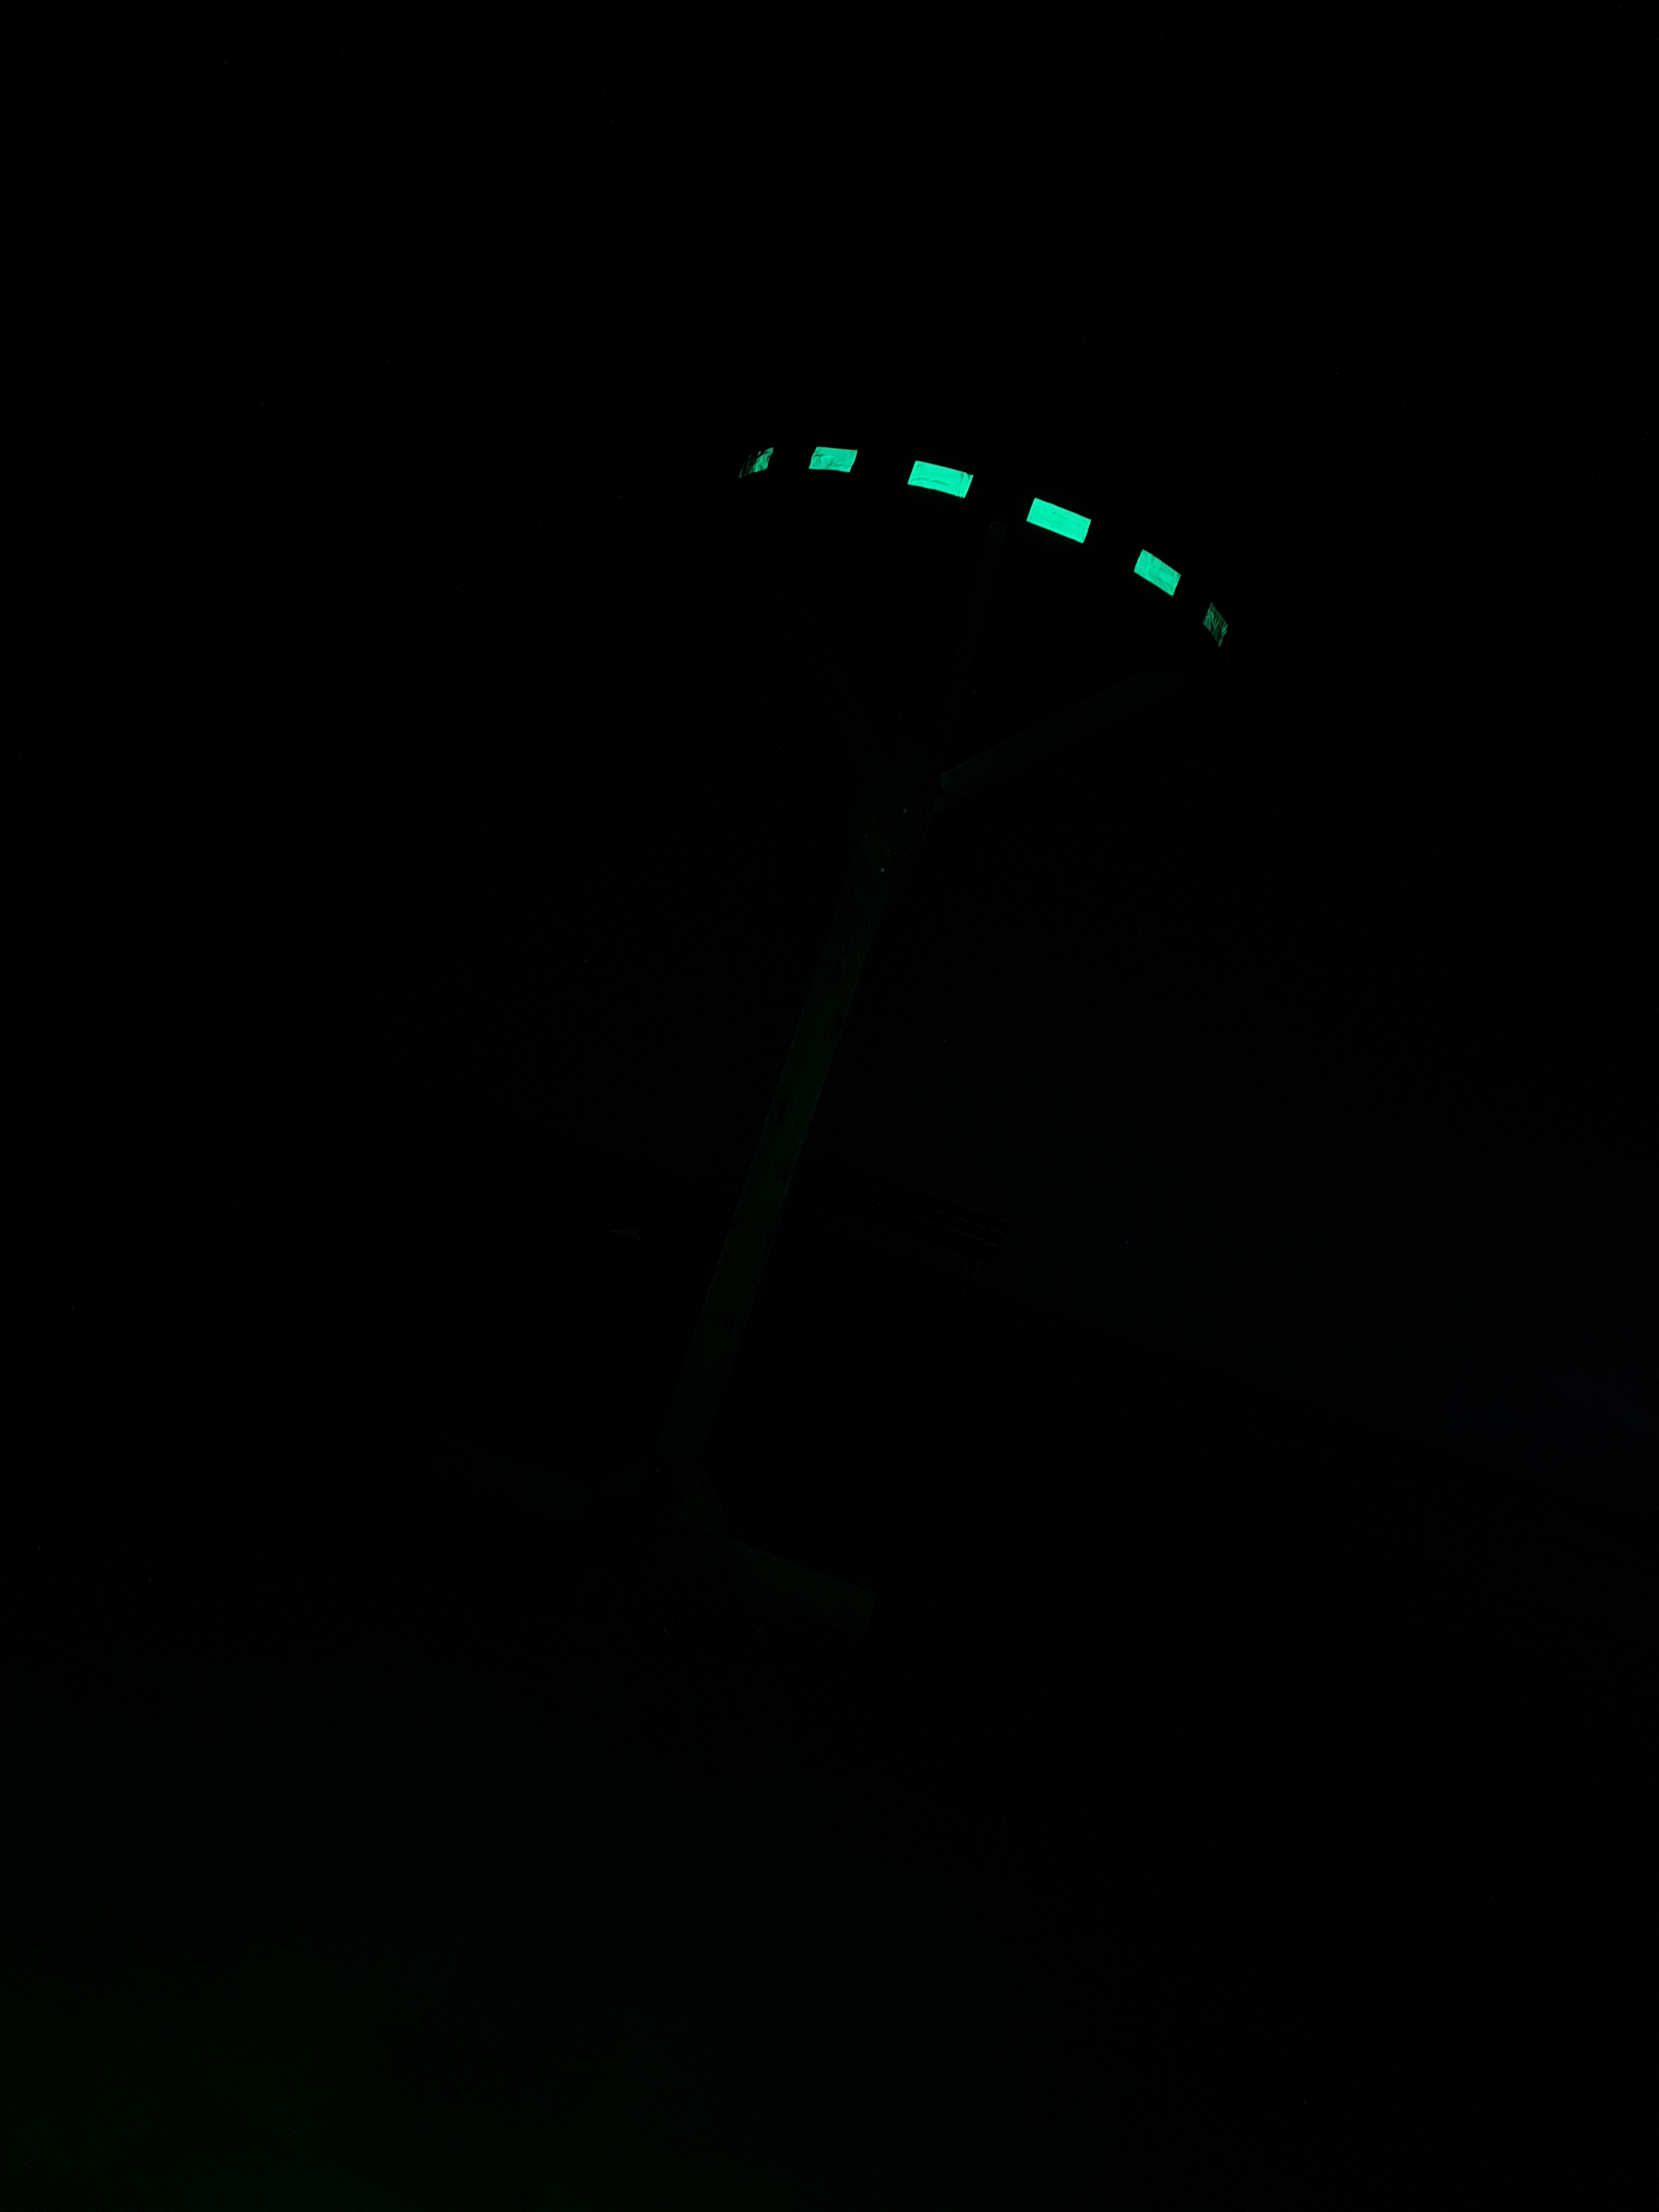hoop: (737, 415, 1229, 658)
